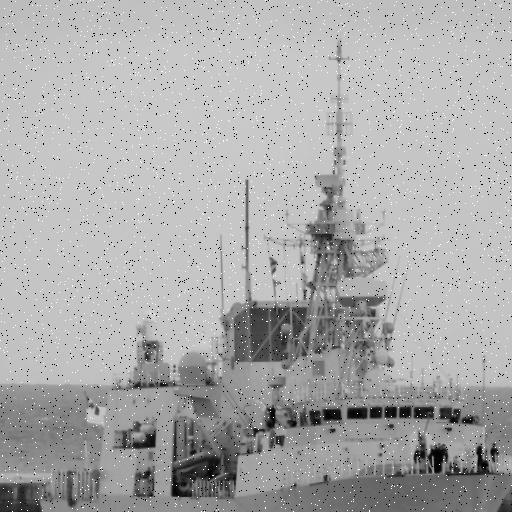Fragata: (38, 1, 512, 512)
